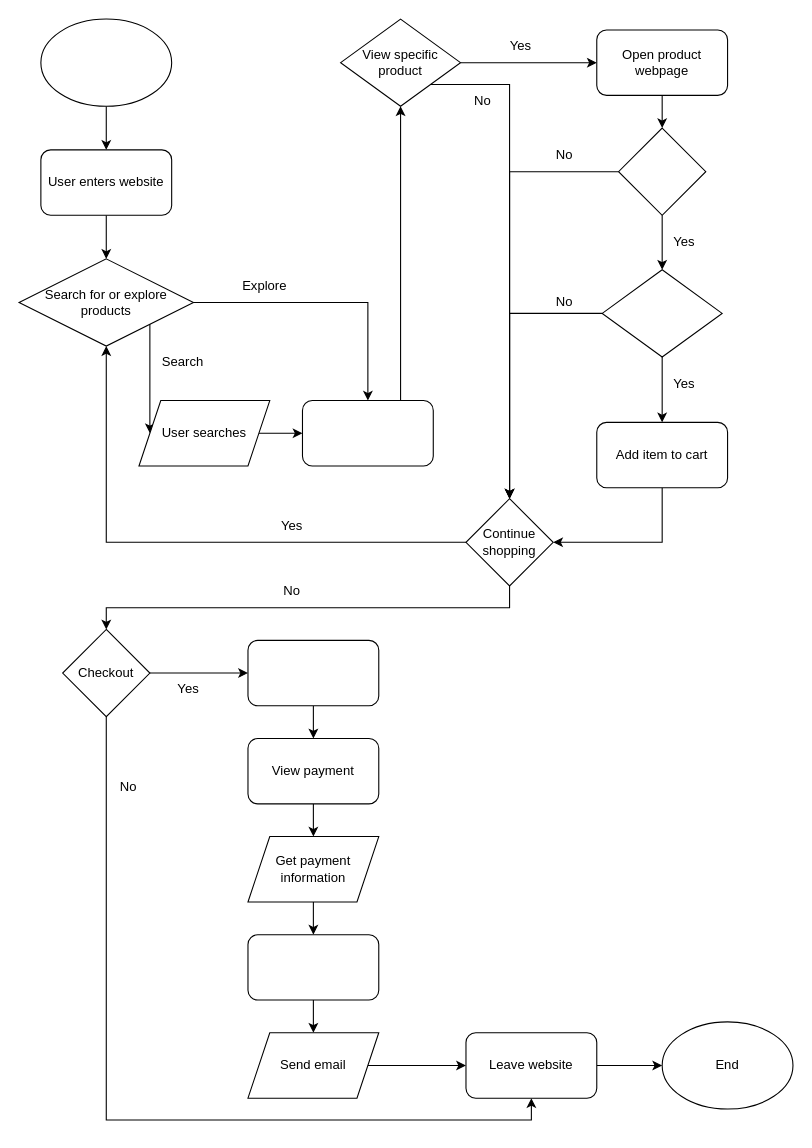
The diagram is 812 pixels wide and 1148 high, and some of its shapes have lost their labels. Each missing label, with the centre of its shape:
Add to cart: (661,171)
Add to cart confirmation message: (661,313)
Display products: (367,432)
Order confirmation: (313,967)
Start: (106,62)
View cart: (313,672)
